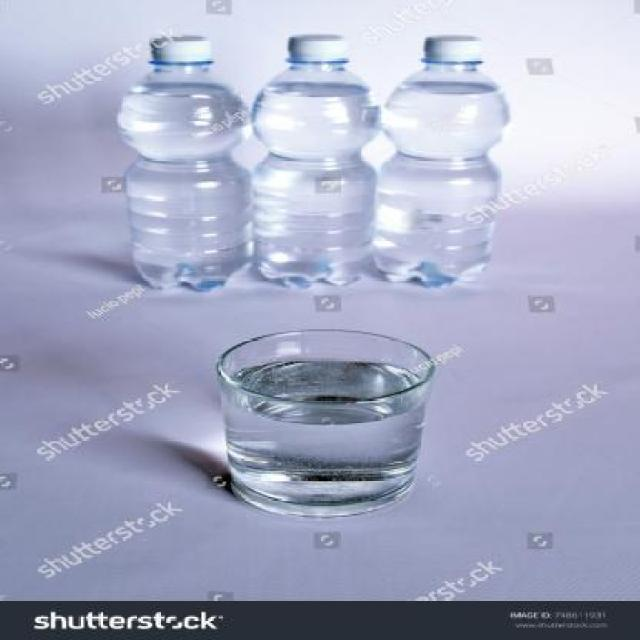bottle: (235, 34, 394, 288), (376, 24, 514, 288), (119, 32, 252, 294)
